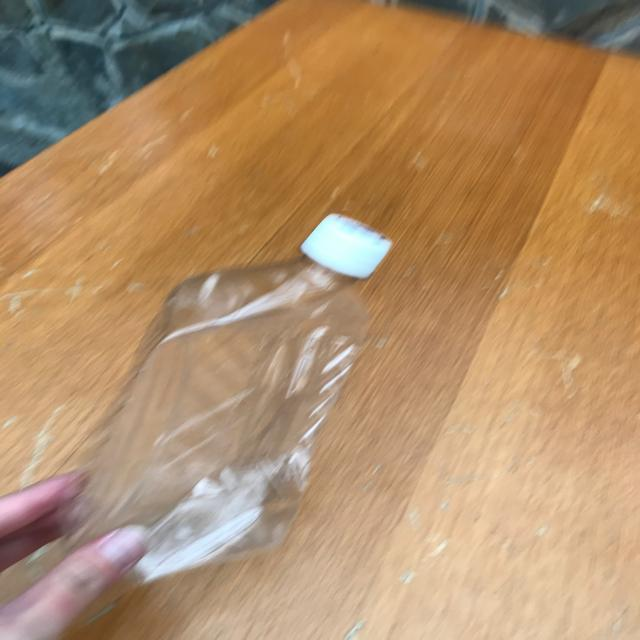plastic_bottle: (61, 213, 392, 590)
